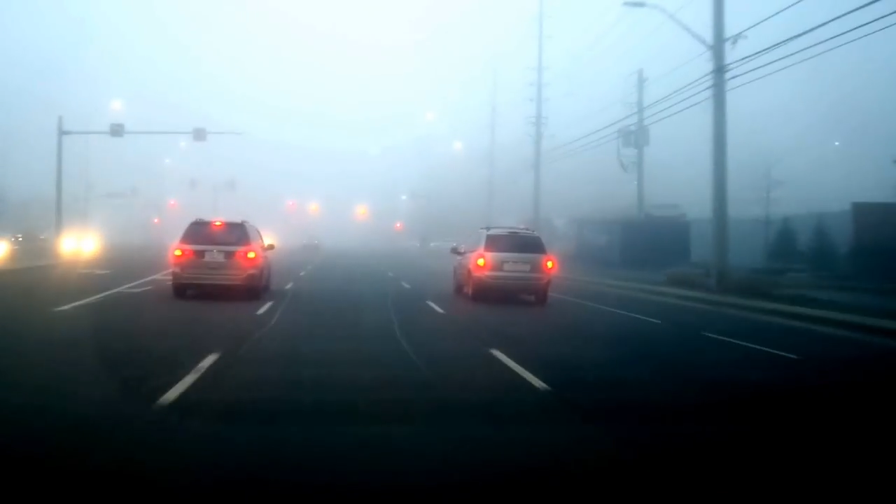car: (167, 213, 277, 301), (450, 224, 555, 306)
